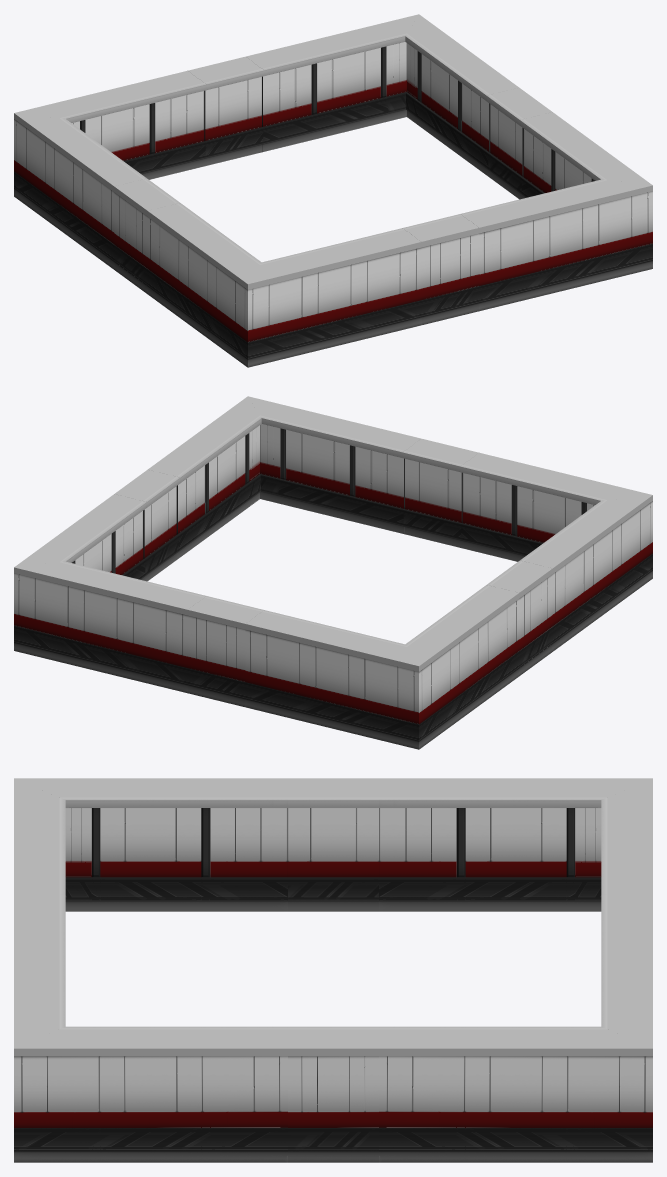
Rendered from Room00.FBX.
3 views of the same model, one above another, from view 1: azimuth 30°, elevation 25°; view 2: azimuth 150°, elevation 25°; view 3: azimuth 270°, elevation 25° (orthographic). The views are drawn at different scales.
Parts seen in each view (by area): view 1: Box047, Box049, Box052, Box055, Box050, Box054, Box051, Box009, Box048, Box062, Box056, Box015; view 2: Box052, Box054, Box047, Box050, Box055, Box049, Box048, Box062, Box051, Box009, Box056, Box015; view 3: Box048, Box051, Box050, Box055, Box015, Box056, Box049, Box054, Box047, Box052, Box009, Box062.
Part boxes in pixels (bbox=[...]): Box047: bbox=[461, 179, 652, 311]; Box049: bbox=[248, 228, 421, 367]; Box052: bbox=[246, 14, 418, 152]; Box055: bbox=[14, 113, 146, 269]; Box050: bbox=[147, 203, 261, 367]; Box054: bbox=[15, 70, 206, 179]; Box051: bbox=[405, 14, 518, 177]; Box009: bbox=[403, 214, 479, 324]; Box048: bbox=[520, 112, 652, 198]; Box062: bbox=[188, 56, 264, 166]; Box056: bbox=[114, 178, 179, 293]; Box015: bbox=[486, 87, 551, 199]; Box052: bbox=[14, 561, 205, 693]; Box054: bbox=[245, 610, 418, 749]; Box047: bbox=[248, 396, 420, 534]; Box050: bbox=[520, 495, 652, 651]; Box055: bbox=[405, 585, 519, 749]; Box049: bbox=[460, 452, 651, 561]; Box048: bbox=[148, 396, 261, 559]; Box062: bbox=[187, 596, 263, 706]; Box051: bbox=[14, 494, 146, 580]; Box009: bbox=[402, 438, 478, 548]; Box056: bbox=[487, 560, 552, 675]; Box015: bbox=[115, 469, 180, 581]; Box048: bbox=[14, 1026, 287, 1162]; Box051: bbox=[379, 1026, 652, 1162]; Box050: bbox=[14, 778, 287, 911]; Box055: bbox=[379, 778, 652, 911]; Box015: bbox=[288, 1026, 378, 1162]; Box056: bbox=[288, 778, 378, 911]; Box049: bbox=[14, 778, 65, 894]; Box054: bbox=[601, 778, 652, 894]; Box047: bbox=[14, 932, 65, 1048]; Box052: bbox=[601, 932, 652, 1048]; Box009: bbox=[14, 894, 65, 932]; Box062: bbox=[601, 894, 652, 932].
Bounding box in the file's own units: 140 × 27.57 × 140.
Materials: 1 (1 with a texture image).
